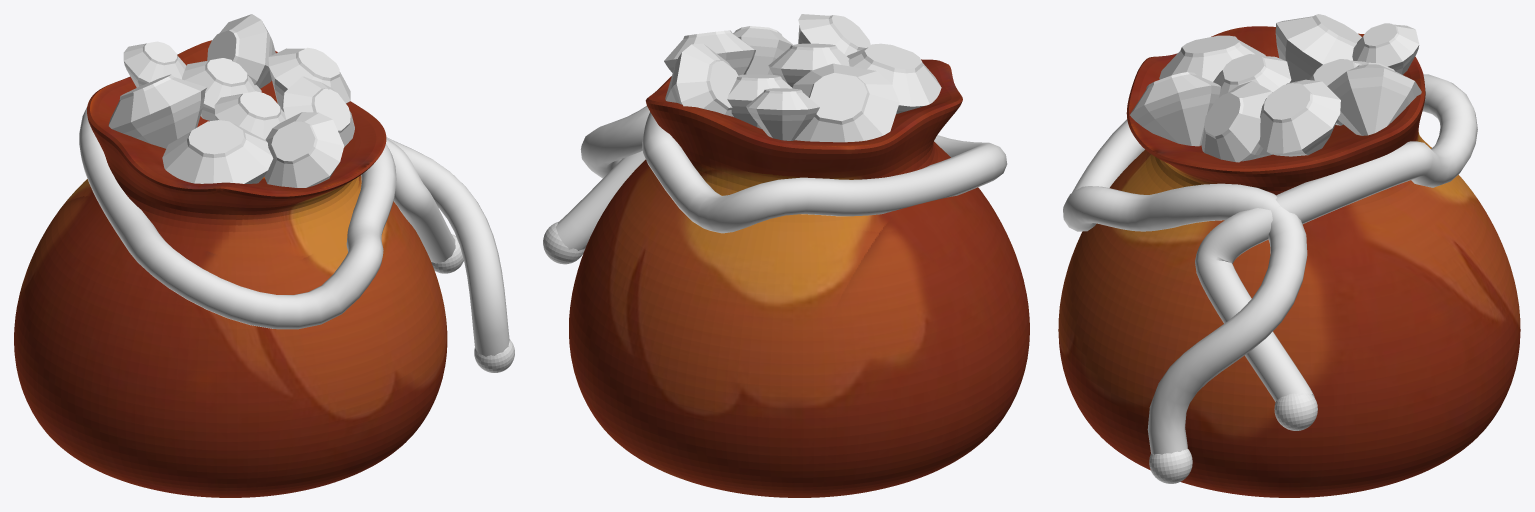
The model's file is Bag.fbx.
The picture shows the model from 3 angles, left to right: view 1: azimuth 30°, elevation 25°; view 2: azimuth 150°, elevation 25°; view 3: azimuth 270°, elevation 25°; orthographic projection. The views are drawn at different scales.
Visible parts, largest first — view 1: Bag, Rope, Crystals7, Crystals6, Crystals8, Crystals3, Crystals1, Crystals9, Crystals5, Crystals4, Crystals2, EndRope1; view 2: Bag, Rope, Crystals6, Crystals3, Crystals7, Crystals2, Crystals8, Crystals4, Crystals1, Crystals9, Crystals5, EndRope2; view 3: Bag, Rope, Crystals1, Crystals8, Crystals3, Crystals9, Crystals6, Crystals7, Crystals2, Crystals4, EndRope2, EndRope1 (+1 smaller).
Part boxes in pixels (box(x1,y1,x2,y2)): Bag: box(14, 40, 447, 497); Rope: box(79, 107, 509, 356); Crystals7: box(162, 120, 273, 183); Crystals6: box(108, 74, 206, 148); Crystals8: box(264, 112, 344, 187); Crystals3: box(207, 14, 275, 88); Crystals1: box(268, 47, 350, 109); Crystals9: box(282, 76, 354, 147); Crystals5: box(182, 58, 261, 120); Crystals4: box(214, 91, 286, 139); Crystals2: box(123, 41, 186, 87); EndRope1: box(474, 339, 514, 372); Bag: box(569, 59, 1029, 497); Rope: box(556, 106, 1007, 250); Crystals6: box(792, 63, 899, 142); Crystals3: box(665, 43, 738, 116); Crystals7: box(847, 43, 941, 114); Crystals2: box(746, 88, 819, 140); Crystals8: box(798, 14, 870, 55); Crystals4: box(768, 43, 849, 87); Crystals1: box(664, 30, 755, 75); Crystals9: box(733, 26, 793, 74); Crystals5: box(727, 74, 792, 128); EndRope2: box(543, 221, 584, 264); Bag: box(1058, 26, 1520, 497); Rope: box(1063, 74, 1477, 454); Crystals1: box(1258, 79, 1340, 156); Crystals8: box(1130, 72, 1220, 146); Crystals3: box(1327, 62, 1421, 135); Crystals9: box(1201, 81, 1272, 162); Crystals6: box(1275, 14, 1361, 82); Crystals7: box(1159, 35, 1265, 81); Crystals2: box(1352, 23, 1419, 74); Crystals4: box(1213, 54, 1291, 97); EndRope2: box(1274, 393, 1317, 430); EndRope1: box(1149, 448, 1192, 483).
Size of the model in its own units: 1.11 by 0.978 by 0.9815.
4 materials, 1 textured.
